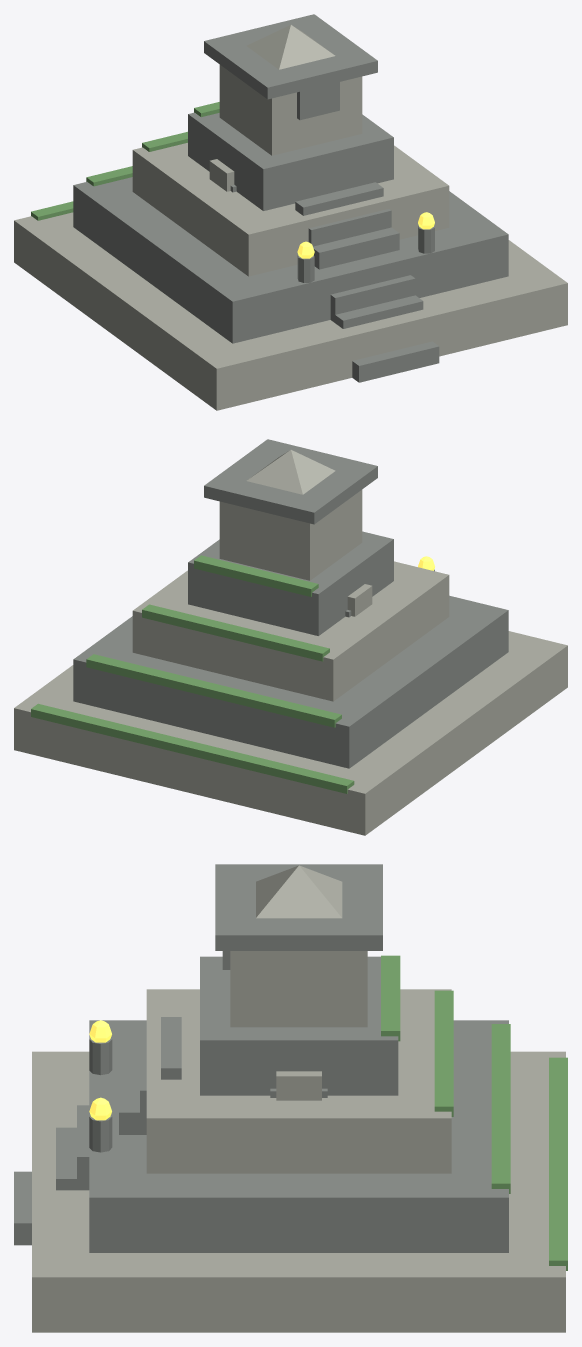
Rendered from jungle_ruins_kit.glb.
3 renders of one model, top to bottom at view 1: azimuth 30°, elevation 25°; view 2: azimuth 150°, elevation 25°; view 3: azimuth 270°, elevation 25°, orthographic. The views are drawn at different scales.
Visible parts, largest first — view 1: ruin_temple, ruin_gate; view 2: ruin_temple, ruin_gate; view 3: ruin_temple, ruin_gate.
Boxes of the visible parts, x1=… form: ruin_temple: x1=14, y1=14, x2=567, y2=410; ruin_gate: x1=209, y1=159, x2=236, y2=192; ruin_temple: x1=14, y1=439, x2=567, y2=835; ruin_gate: x1=345, y1=584, x2=372, y2=617; ruin_temple: x1=14, y1=864, x2=567, y2=1332; ruin_gate: x1=270, y1=1071, x2=327, y2=1100.
Bounding box in the file's own units: 14 × 10.38 × 14.53.
